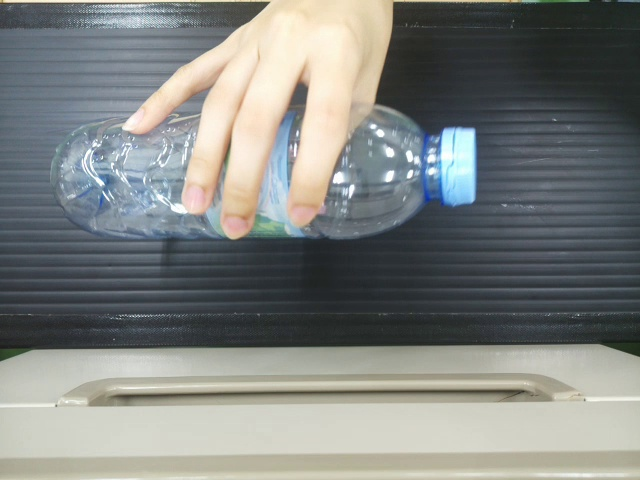bottle: (333, 98, 477, 242), (49, 108, 187, 238)
